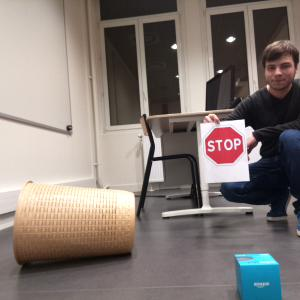medium: (14, 182, 137, 267)
small: (235, 253, 281, 300)
